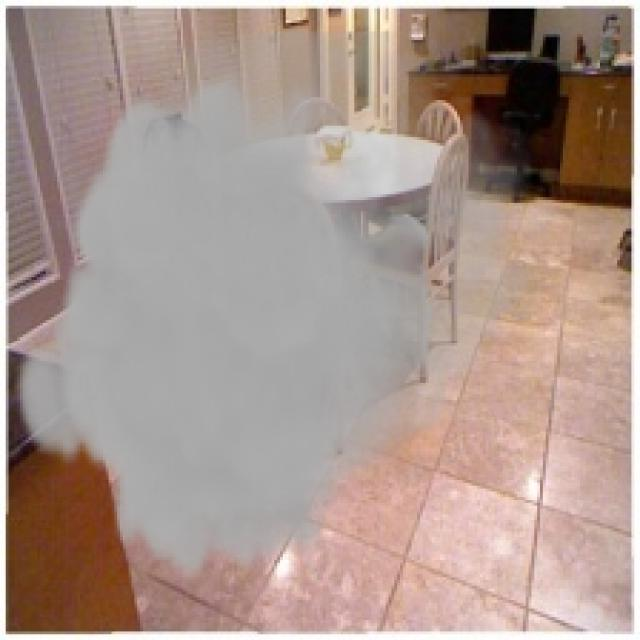smoke: (11, 31, 548, 583)
